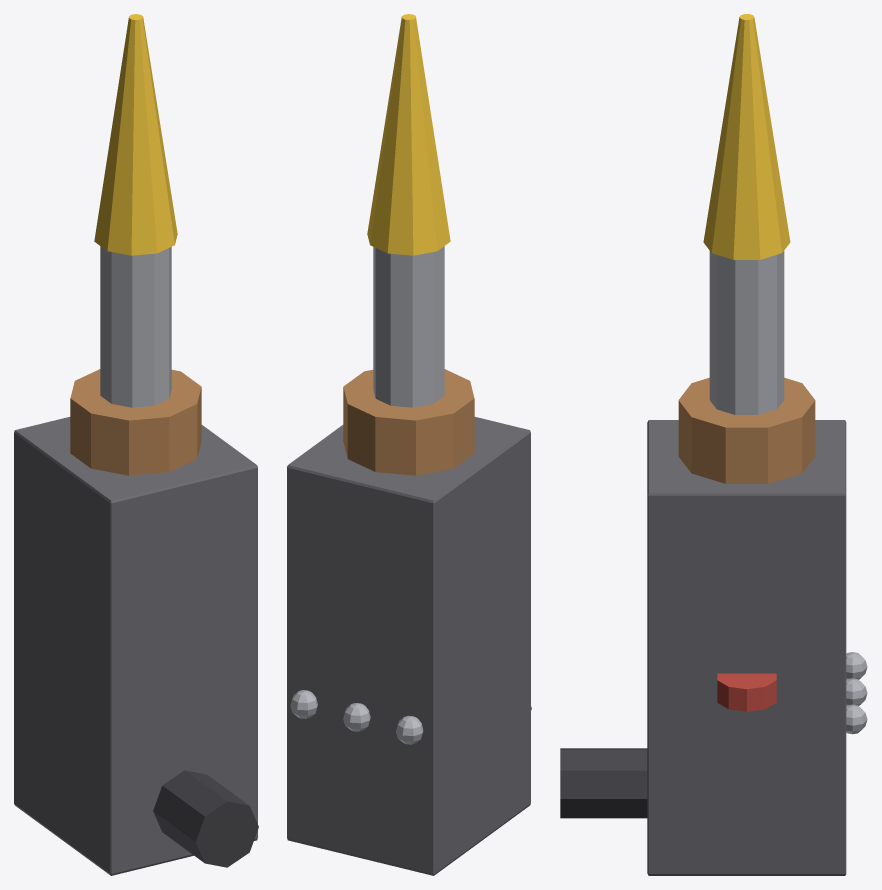
The model's file is pile-spike.glb.
3 views of the same model, side by side, from view 1: azimuth 30°, elevation 25°; view 2: azimuth 150°, elevation 25°; view 3: azimuth 270°, elevation 25° (orthographic). The views are drawn at different scales.
Visible parts, largest first — view 1: housing, spike, pistonrod, collar, grip; view 2: housing, spike, pistonrod, collar, rivet.002, rivet.001, rivet; view 3: housing, spike, pistonrod, collar, grip, gauge.
Part boxes in pixels (box(x1,y1,x2,y2)): housing: box(14, 417, 257, 875); spike: box(94, 14, 177, 255); pistonrod: box(100, 246, 171, 407); collar: box(70, 369, 201, 475); grip: box(153, 770, 258, 867); housing: box(287, 417, 530, 875); spike: box(367, 14, 450, 255); pistonrod: box(373, 246, 444, 407); collar: box(343, 369, 474, 475); rivet.002: box(343, 703, 370, 731); rivet.001: box(396, 715, 423, 744); rivet: box(290, 690, 317, 718); housing: box(647, 420, 846, 875); spike: box(703, 14, 790, 259); pistonrod: box(709, 251, 784, 414); collar: box(678, 377, 815, 483); grip: box(560, 748, 647, 818); gauge: box(717, 673, 776, 711).
Size of the model in its own units: 0.17 by 0.73 by 0.247.
